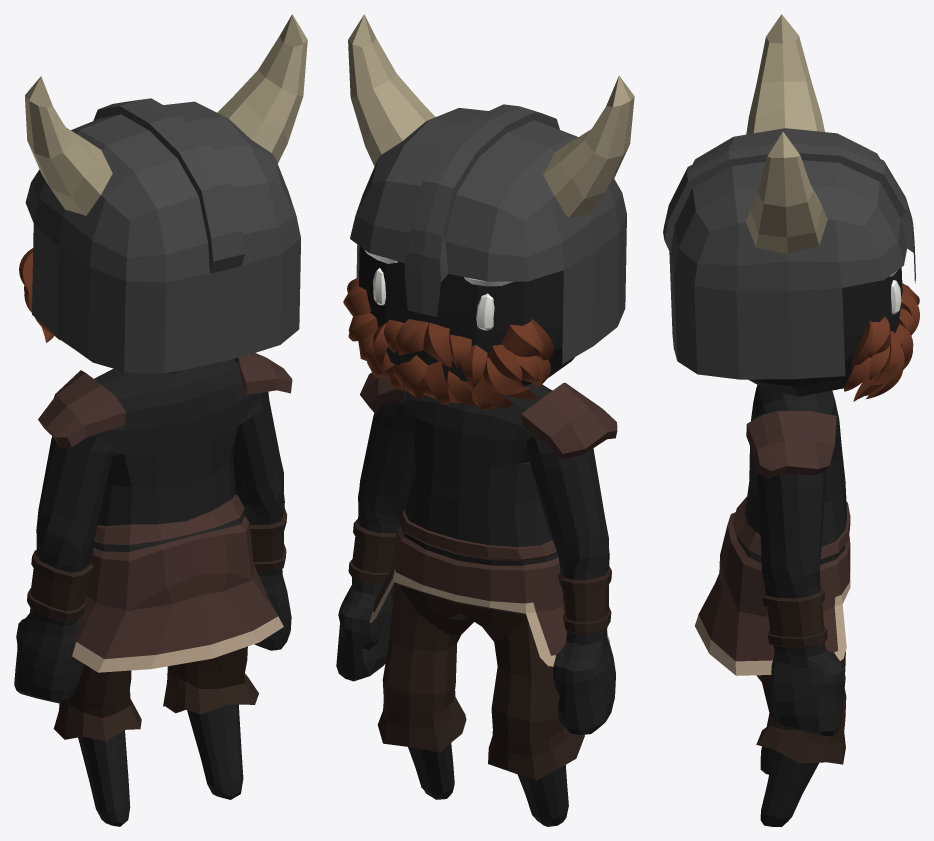
The model's file is boneco1.fbx.
3 renders of one model, left to right at view 1: azimuth 30°, elevation 25°; view 2: azimuth 150°, elevation 25°; view 3: azimuth 270°, elevation 25°, orthographic. The views are drawn at different scales.
Parts seen in each view (by area): view 1: Body.060; view 2: Body.060; view 3: Body.060.
Part boxes in pixels (<box>): Body.060: <box>14,14,307,826</box>; Body.060: <box>336,14,634,826</box>; Body.060: <box>663,14,919,826</box>.
Bounding box in the file's own units: 132 × 351 × 112.
